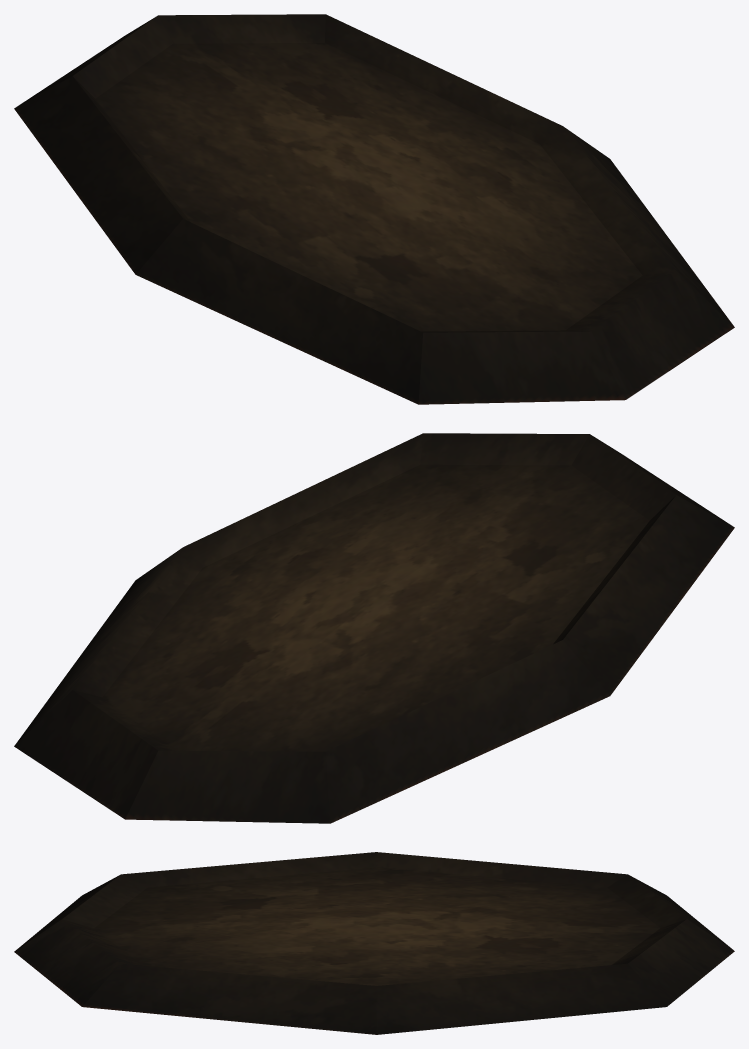
File: FlowerBed_Oval.fbx
3 views of the same model, one above another, from view 1: azimuth 30°, elevation 25°; view 2: azimuth 150°, elevation 25°; view 3: azimuth 270°, elevation 25° (orthographic). The views are drawn at different scales.
Parts seen in each view (by area): view 1: pCube1; view 2: pCube1; view 3: pCube1.
Part boxes in pixels (x1,y1,x2,y2): pCube1: [14, 14, 734, 404]; pCube1: [14, 433, 734, 823]; pCube1: [14, 852, 734, 1034].
Bounding box in the file's own units: 1.13 × 0.101 × 2.05.
